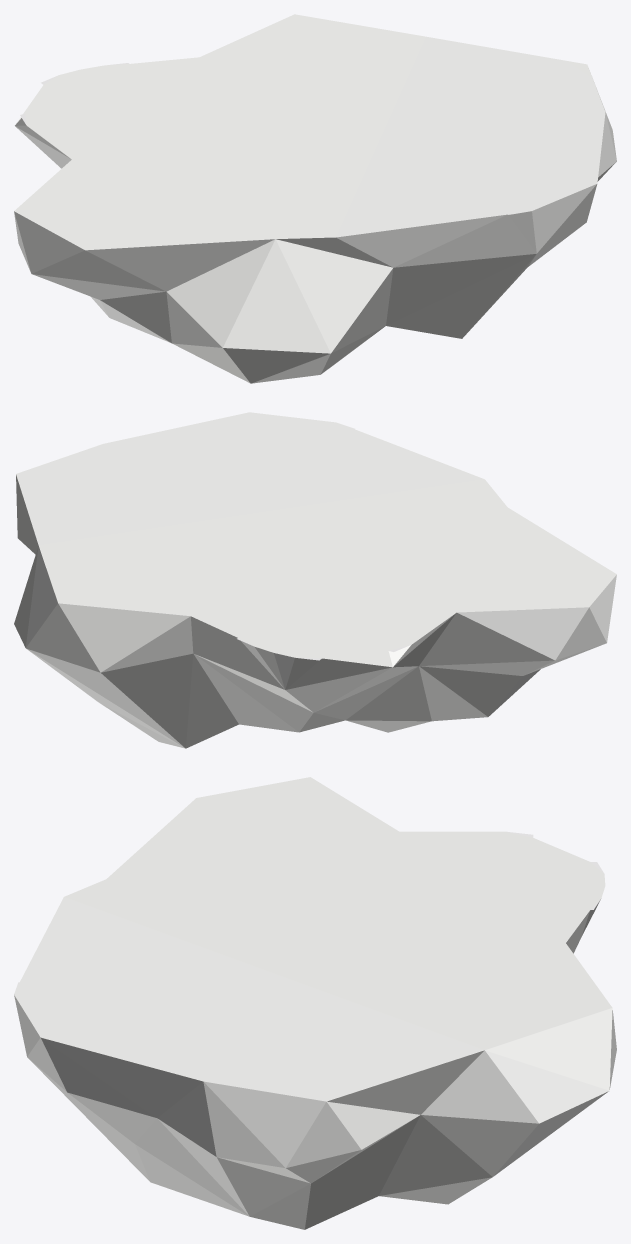
Rendered from oblakoflat2.fbx.
3 views of the same model, one above another, from view 1: azimuth 30°, elevation 25°; view 2: azimuth 150°, elevation 25°; view 3: azimuth 270°, elevation 25° (orthographic). The views are drawn at different scales.
Visible parts, largest first — view 1: Mball.005; view 2: Mball.005; view 3: Mball.005.
Part boxes in pixels (x1=…): Mball.005: x1=14, y1=14, x2=616, y2=383; Mball.005: x1=14, y1=412, x2=616, y2=748; Mball.005: x1=14, y1=777, x2=616, y2=1229.
Bounding box in the file's own units: 1092 × 332 × 845.
